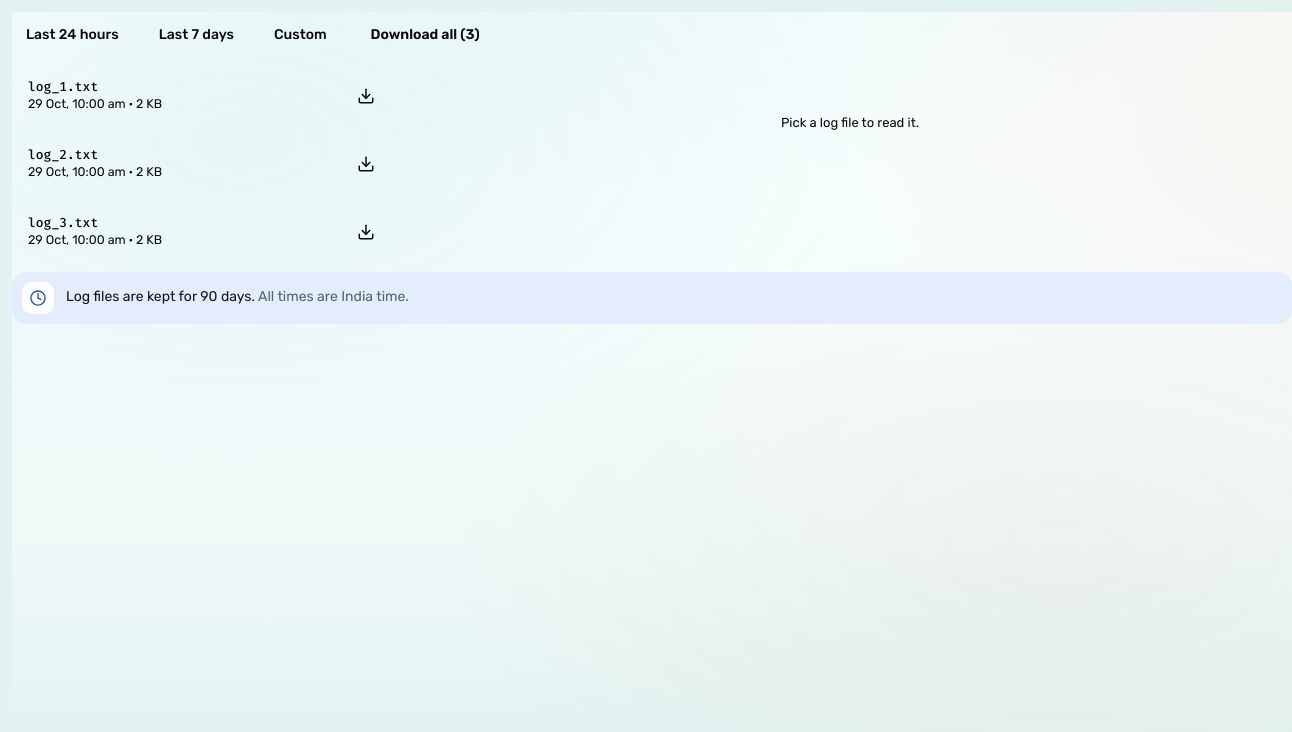
Test case: OpsLogFiles › LG9 open failure
Click the button with aria-label "Open log_1.txt". click: (63, 87)
box: [12, 70, 344, 122]
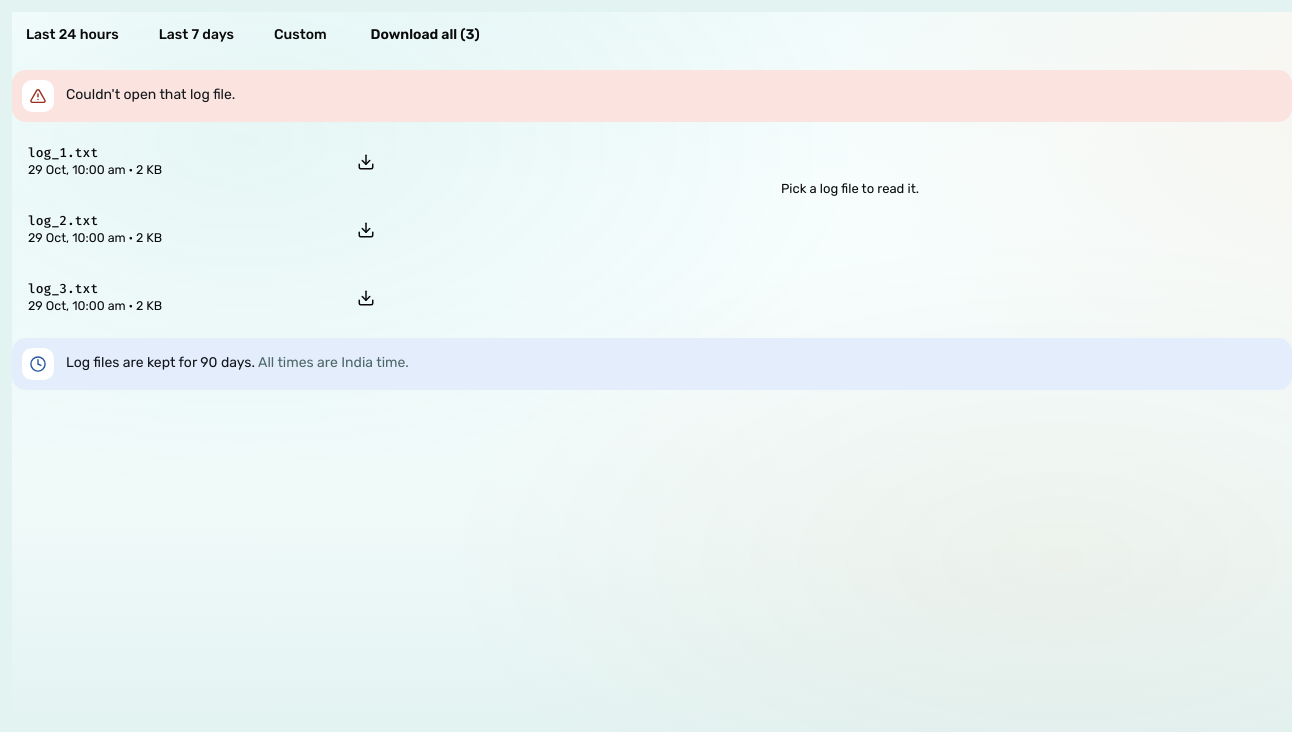
Check: the text "Couldn't open that log file." is shown, box [66, 86, 235, 103]
